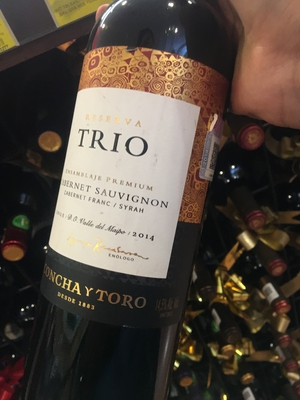trio cabernet sauvignon: (42, 6, 226, 396)
